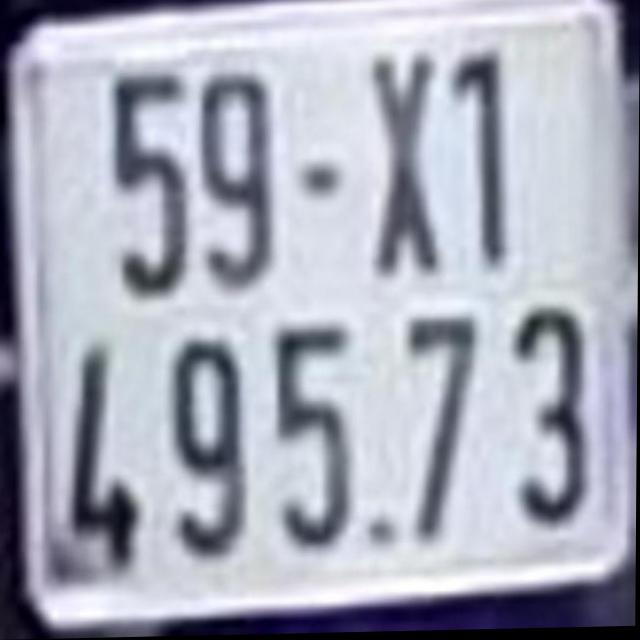1: (450, 51, 511, 271)
3: (513, 309, 589, 522)
4: (62, 340, 145, 567)
5: (271, 320, 356, 552), (110, 70, 192, 295), (407, 315, 473, 529)
9: (169, 336, 255, 546), (199, 72, 276, 281)
X: (366, 48, 445, 285)
